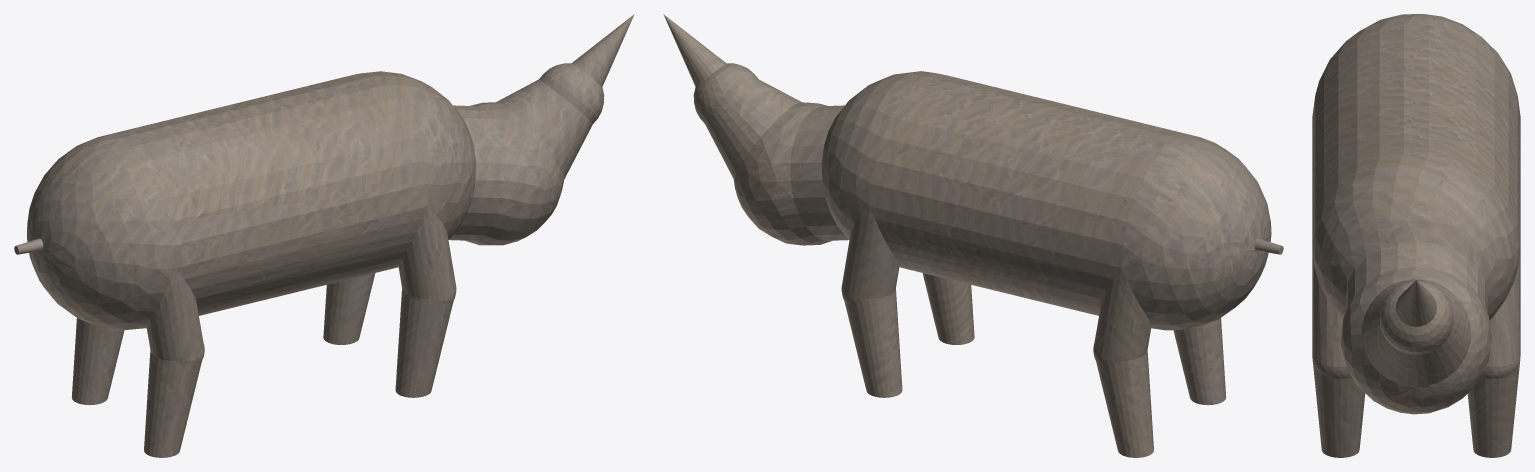
The model's file is rhinos.obj.
3 views of the same model, side by side, from view 1: azimuth 30°, elevation 25°; view 2: azimuth 150°, elevation 25°; view 3: azimuth 270°, elevation 25° (orthographic). The views are drawn at different scales.
Parts seen in each view (by area): view 1: node_id3; view 2: node_id3; view 3: node_id3.
Part boxes in pixels (left/top/right/bottom): node_id3: left=14, top=14, right=634, bottom=457; node_id3: left=663, top=14, right=1283, bottom=457; node_id3: left=1312, top=14, right=1520, bottom=457.
Size of the model in its own units: 1.04 by 0.4624 by 0.2895.
1 material, 1 textured.
